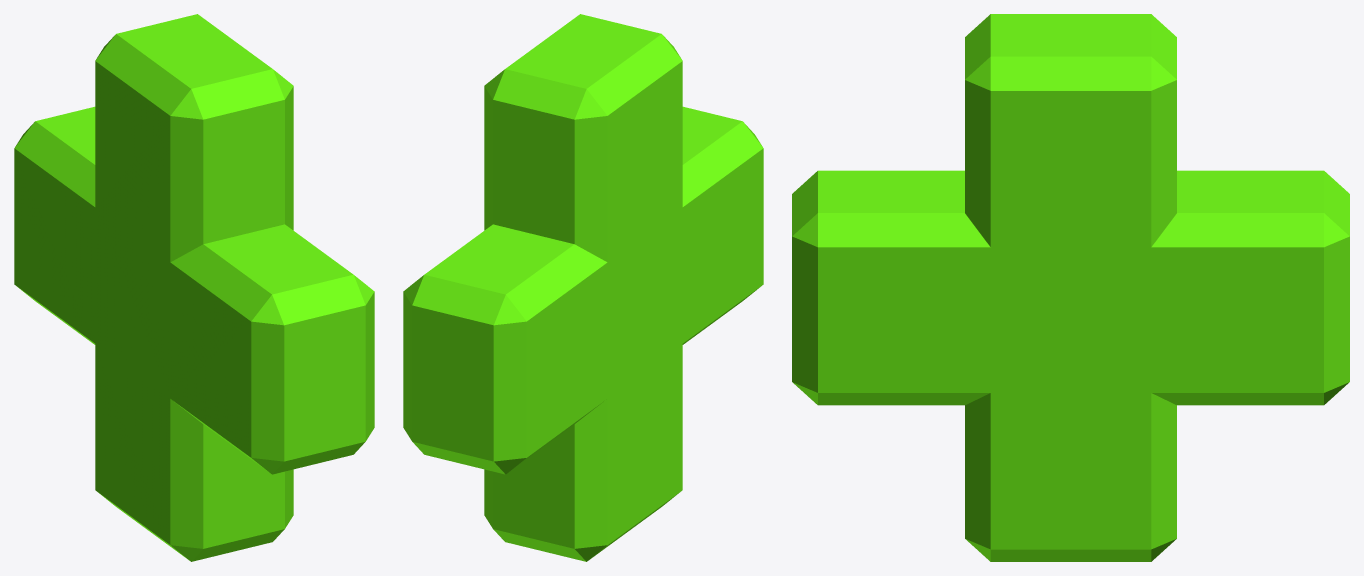
Rendered from SM_Health.fbx.
The picture shows the model from 3 angles, left to right: view 1: azimuth 30°, elevation 25°; view 2: azimuth 150°, elevation 25°; view 3: azimuth 270°, elevation 25°; orthographic projection. The views are drawn at different scales.
Parts seen in each view (by area): view 1: SM_Health; view 2: SM_Health; view 3: SM_Health.
Part boxes in pixels (<box>): SM_Health: <box>14,14,374,561</box>; SM_Health: <box>403,14,763,561</box>; SM_Health: <box>792,14,1349,561</box>.
Size of the model in its own units: 21.28 by 77.94 by 77.94.
